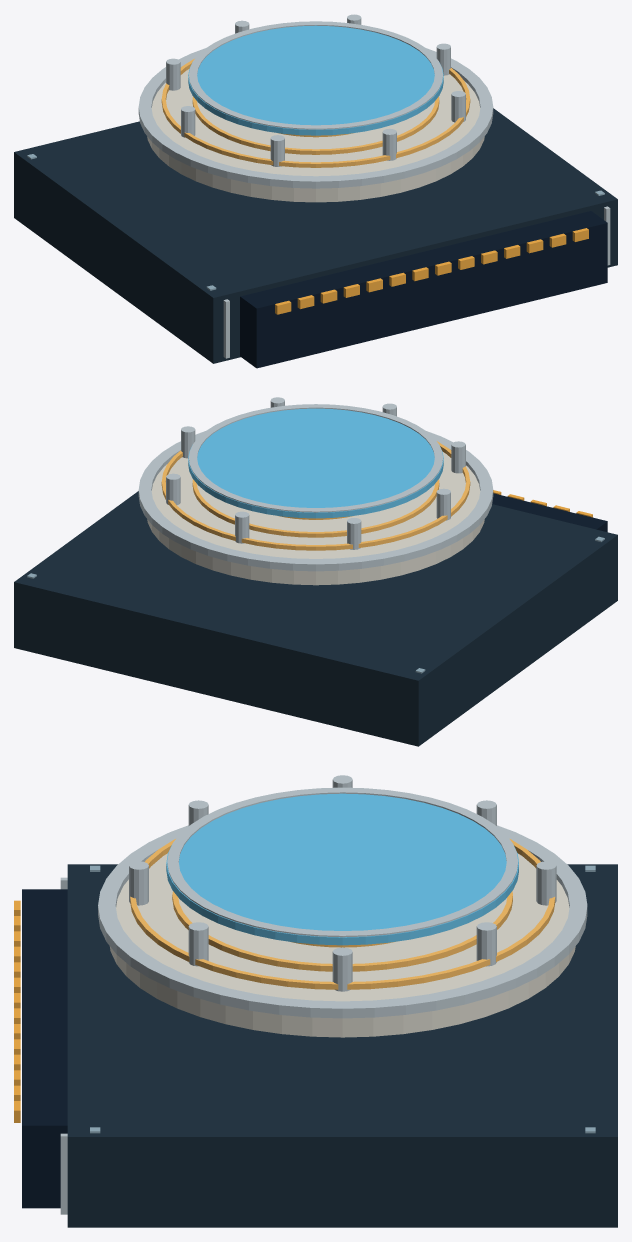
Rendered from 09_L74_SoftBakeHotplateModule.fbx.
3 views of the same model, one above another, from view 1: azimuth 30°, elevation 25°; view 2: azimuth 150°, elevation 25°; view 3: azimuth 270°, elevation 25° (orthographic). The views are drawn at different scales.
Visible parts, largest first — view 1: SoftBakeHotplateModule, SoftBakeHotplateModule_Part_0021, SoftBakeHotplateModule_Part_0007, SoftBakeHotplateModule_Part_0008, SoftBakeHotplateModule_Part_0022, SoftBakeHotplateModule_Part_0012, SoftBakeHotplateModule_Part_0011; view 2: SoftBakeHotplateModule, SoftBakeHotplateModule_Part_0021, SoftBakeHotplateModule_Part_0007, SoftBakeHotplateModule_Part_0008, SoftBakeHotplateModule_Part_0022, SoftBakeHotplateModule_Part_0012, SoftBakeHotplateModule_Part_0011; view 3: SoftBakeHotplateModule, SoftBakeHotplateModule_Part_0021, SoftBakeHotplateModule_Part_0007, SoftBakeHotplateModule_Part_0008, SoftBakeHotplateModule_Part_0022, SoftBakeHotplateModule_Part_0012, SoftBakeHotplateModule_Part_0011, SoftBakeHotplateModule_Part_0019, SoftBakeHotplateModule_Part_0013, SoftBakeHotplateModule_Part_0015, SoftBakeHotplateModule_Part_0014, SoftBakeHotplateModule_Part_0020.
Part boxes in pixels (left/top/right/bottom): SoftBakeHotplateModule: left=14, top=108, right=617, bottom=368; SoftBakeHotplateModule_Part_0021: left=188, top=25, right=443, bottom=135; SoftBakeHotplateModule_Part_0007: left=147, top=69, right=484, bottom=202; SoftBakeHotplateModule_Part_0008: left=138, top=48, right=493, bottom=188; SoftBakeHotplateModule_Part_0022: left=188, top=21, right=443, bottom=129; SoftBakeHotplateModule_Part_0012: left=161, top=58, right=470, bottom=167; SoftBakeHotplateModule_Part_0011: left=192, top=96, right=439, bottom=154; SoftBakeHotplateModule: left=14, top=490, right=617, bottom=746; SoftBakeHotplateModule_Part_0021: left=188, top=408, right=443, bottom=518; SoftBakeHotplateModule_Part_0007: left=147, top=452, right=484, bottom=585; SoftBakeHotplateModule_Part_0008: left=138, top=431, right=493, bottom=571; SoftBakeHotplateModule_Part_0022: left=188, top=404, right=443, bottom=512; SoftBakeHotplateModule_Part_0012: left=161, top=441, right=470, bottom=550; SoftBakeHotplateModule_Part_0011: left=192, top=479, right=439, bottom=537; SoftBakeHotplateModule: left=14, top=864, right=617, bottom=1227; SoftBakeHotplateModule_Part_0021: left=166, top=793, right=518, bottom=945; SoftBakeHotplateModule_Part_0007: left=109, top=853, right=575, bottom=1037; SoftBakeHotplateModule_Part_0008: left=98, top=825, right=587, bottom=1018; SoftBakeHotplateModule_Part_0022: left=167, top=787, right=518, bottom=937; SoftBakeHotplateModule_Part_0012: left=130, top=839, right=555, bottom=989; SoftBakeHotplateModule_Part_0011: left=172, top=891, right=512, bottom=971; SoftBakeHotplateModule_Part_0019: left=536, top=861, right=556, bottom=905; SoftBakeHotplateModule_Part_0013: left=332, top=947, right=352, bottom=991; SoftBakeHotplateModule_Part_0015: left=129, top=861, right=148, bottom=905; SoftBakeHotplateModule_Part_0014: left=188, top=922, right=208, bottom=966; SoftBakeHotplateModule_Part_0020: left=476, top=922, right=496, bottom=966.
Size of the model in its own units: 212 by 83.38 by 199.
